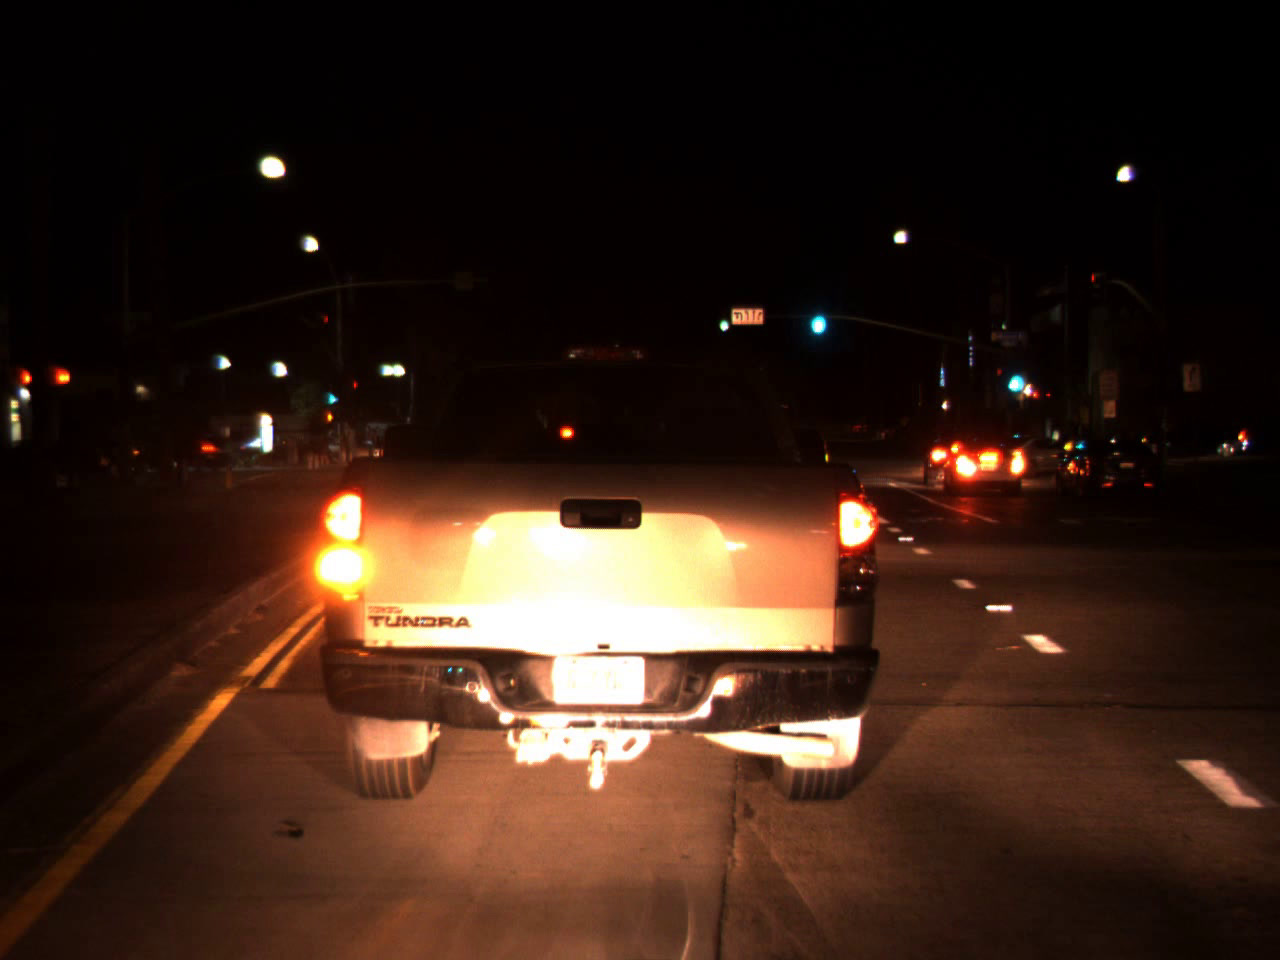go: (1001, 353, 1028, 398), (805, 294, 828, 339), (323, 377, 342, 410), (716, 308, 730, 335)
